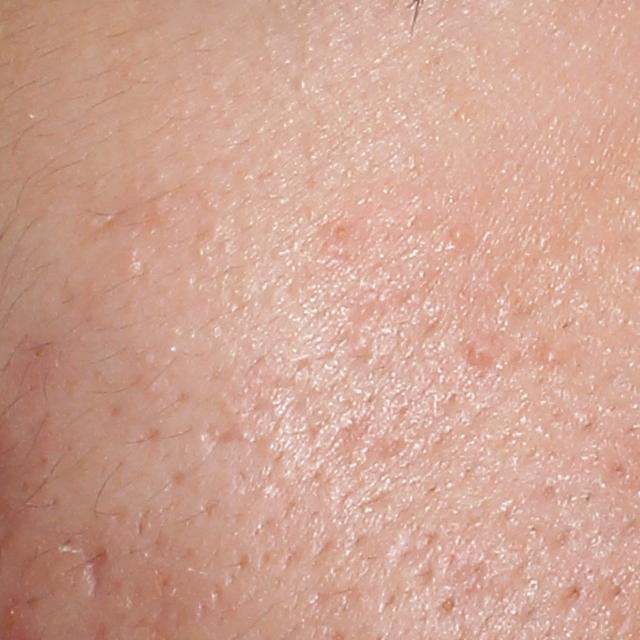atrophic_scar: (326, 414, 375, 469), (199, 423, 243, 450), (86, 546, 106, 599)
comedo: (439, 592, 461, 613), (539, 348, 561, 366)
